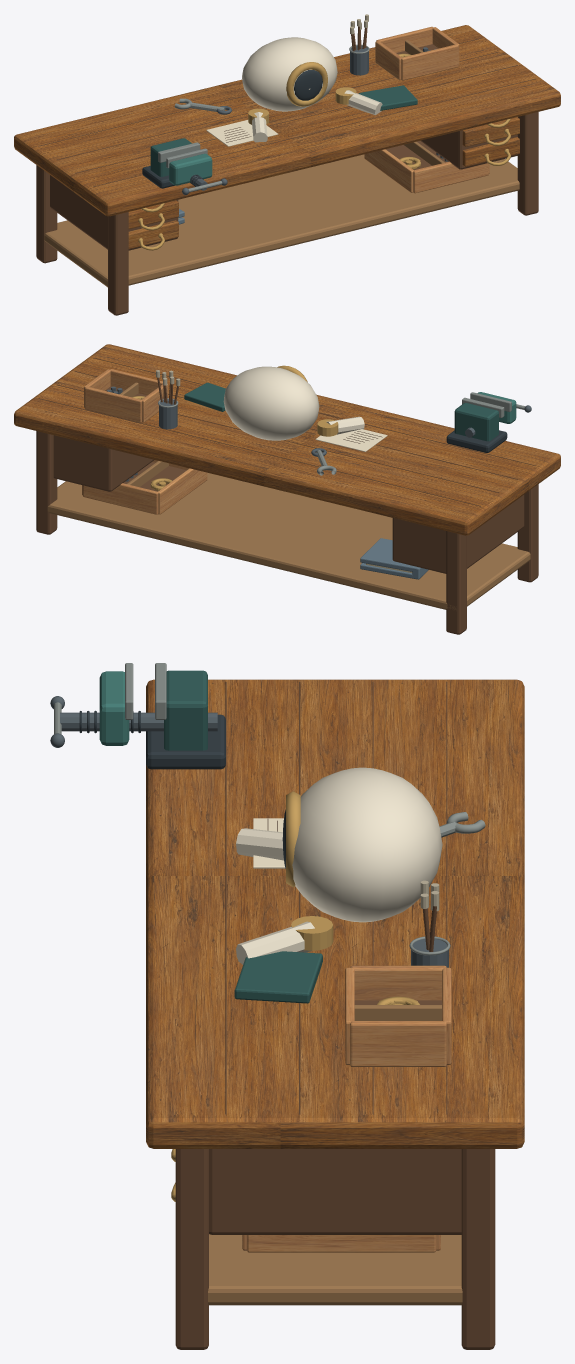
3 views of the same model, one above another, from view 1: azimuth 30°, elevation 25°; view 2: azimuth 150°, elevation 25°; view 3: azimuth 270°, elevation 25° (orthographic). The views are drawn at different scales.
Parts seen in each view (by area): view 1: workshop_bench, workshop_wood, workshop_wood_dark, workshop_oak, workshop_cream, workshop_brass, workshop_teal_dark, workshop_steel_light, workshop_steel_dark, workshop_teal, workshop_paper, workshop_steel; view 2: workshop_bench, workshop_wood, workshop_wood_dark, workshop_cream, workshop_oak, workshop_teal_dark, workshop_blue, workshop_steel_light, workshop_paper, workshop_steel, workshop_steel_dark, workshop_brass; view 3: workshop_bench, workshop_wood_dark, workshop_cream, workshop_wood, workshop_oak, workshop_teal_dark, workshop_steel_dark, workshop_brass, workshop_steel, workshop_steel_light, workshop_teal.
Part boxes in pixels (bbox=[...]): workshop_bench: bbox=[14, 25, 560, 248]; workshop_wood: bbox=[44, 40, 519, 287]; workshop_wood_dark: bbox=[36, 26, 538, 315]; workshop_oak: bbox=[364, 26, 489, 193]; workshop_cream: bbox=[242, 37, 382, 142]; workshop_brass: bbox=[138, 53, 510, 250]; workshop_teal_dark: bbox=[150, 85, 417, 176]; workshop_steel_light: bbox=[158, 44, 369, 192]; workshop_steel_dark: bbox=[142, 69, 322, 188]; workshop_teal: bbox=[169, 153, 212, 185]; workshop_paper: bbox=[206, 120, 278, 146]; workshop_steel: bbox=[182, 45, 448, 194]; workshop_bench: bbox=[14, 344, 560, 535]; workshop_wood: bbox=[47, 382, 530, 610]; workshop_wood_dark: bbox=[36, 357, 538, 634]; workshop_cream: bbox=[223, 366, 364, 440]; workshop_oak: bbox=[82, 369, 207, 514]; workshop_teal_dark: bbox=[184, 382, 498, 441]; workshop_blue: bbox=[360, 538, 428, 579]; workshop_steel_light: bbox=[158, 392, 525, 475]; workshop_paper: bbox=[315, 429, 387, 451]; workshop_steel: bbox=[107, 386, 531, 481]; workshop_steel_dark: bbox=[446, 430, 507, 452]; workshop_brass: bbox=[132, 365, 338, 490]; workshop_bench: bbox=[146, 679, 524, 1148]; workshop_wood_dark: bbox=[175, 681, 495, 1349]; workshop_cream: bbox=[236, 767, 442, 964]; workshop_wood: bbox=[208, 1005, 462, 1305]; workshop_oak: bbox=[242, 965, 451, 1252]; workshop_teal_dark: bbox=[164, 670, 322, 1003]; workshop_steel_dark: bbox=[79, 710, 285, 868]; workshop_brass: bbox=[171, 791, 419, 1201]; workshop_steel: bbox=[50, 696, 448, 967]; workshop_steel_light: bbox=[54, 663, 485, 955]; workshop_teal: bbox=[99, 671, 129, 745].
Size of the model in its own units: 5 by 1.96 by 2.26.
Materials: 16 (2 with a texture image).
